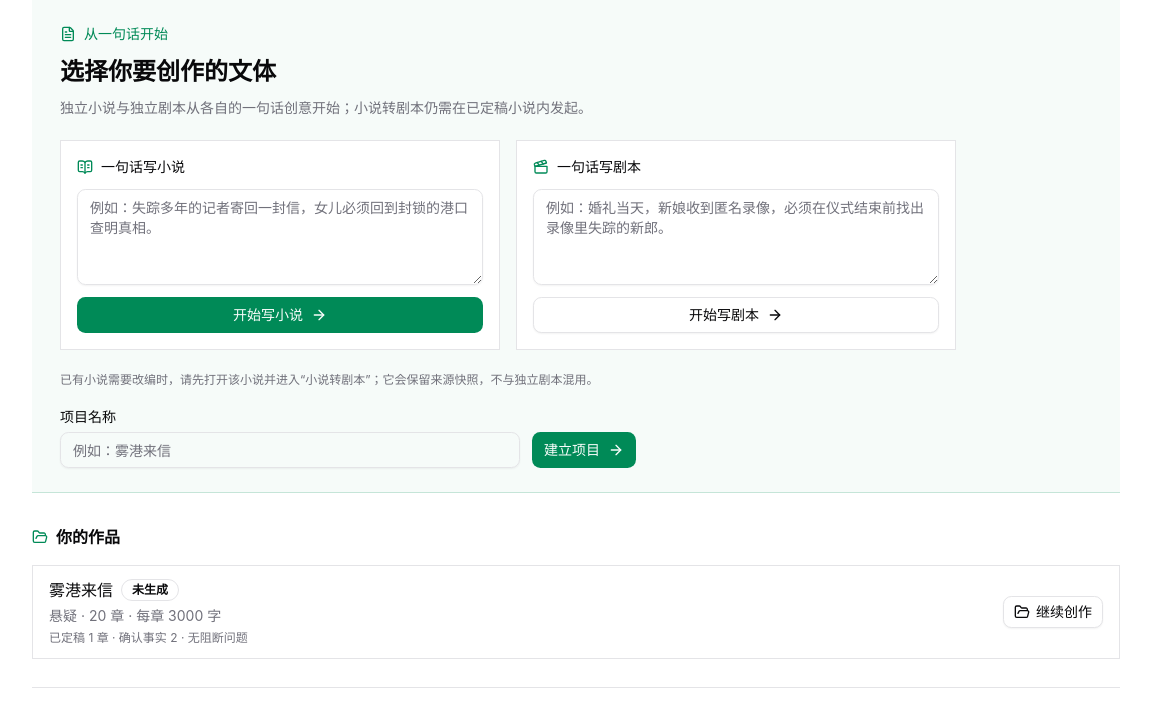
Test case: StudioWorkbench › explains the saved state and recovery action for a recoverable finalization task
The width and height of the screenshot is (1152, 720).
(page scrolled)
Click the button "继续创作". click: (1053, 612)
box: [1003,596,1103,628]
(page scrolled)
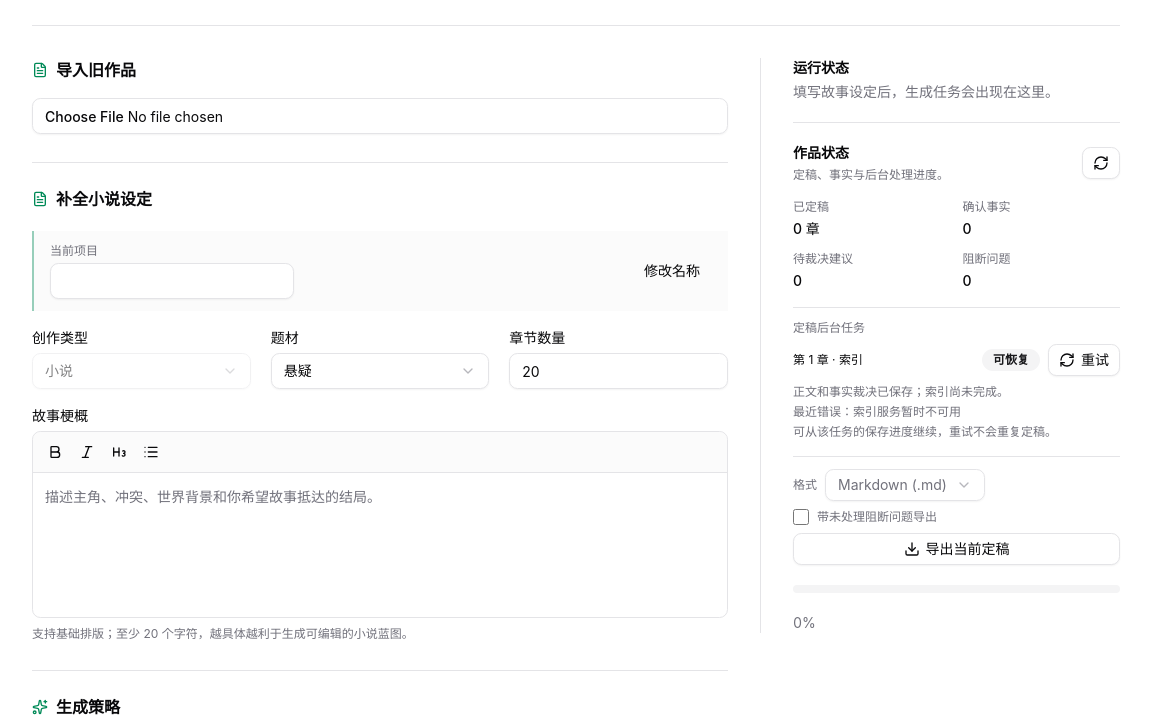
Now the text "正文和事实裁决已保存；索引尚未完成。" is shown, box [793,384,1009,399]
Now the text "最近错误：索引服务暂时不可用" is shown, box [793,404,961,419]
Now the button "重试" is shown, box [1048,344,1120,376]
